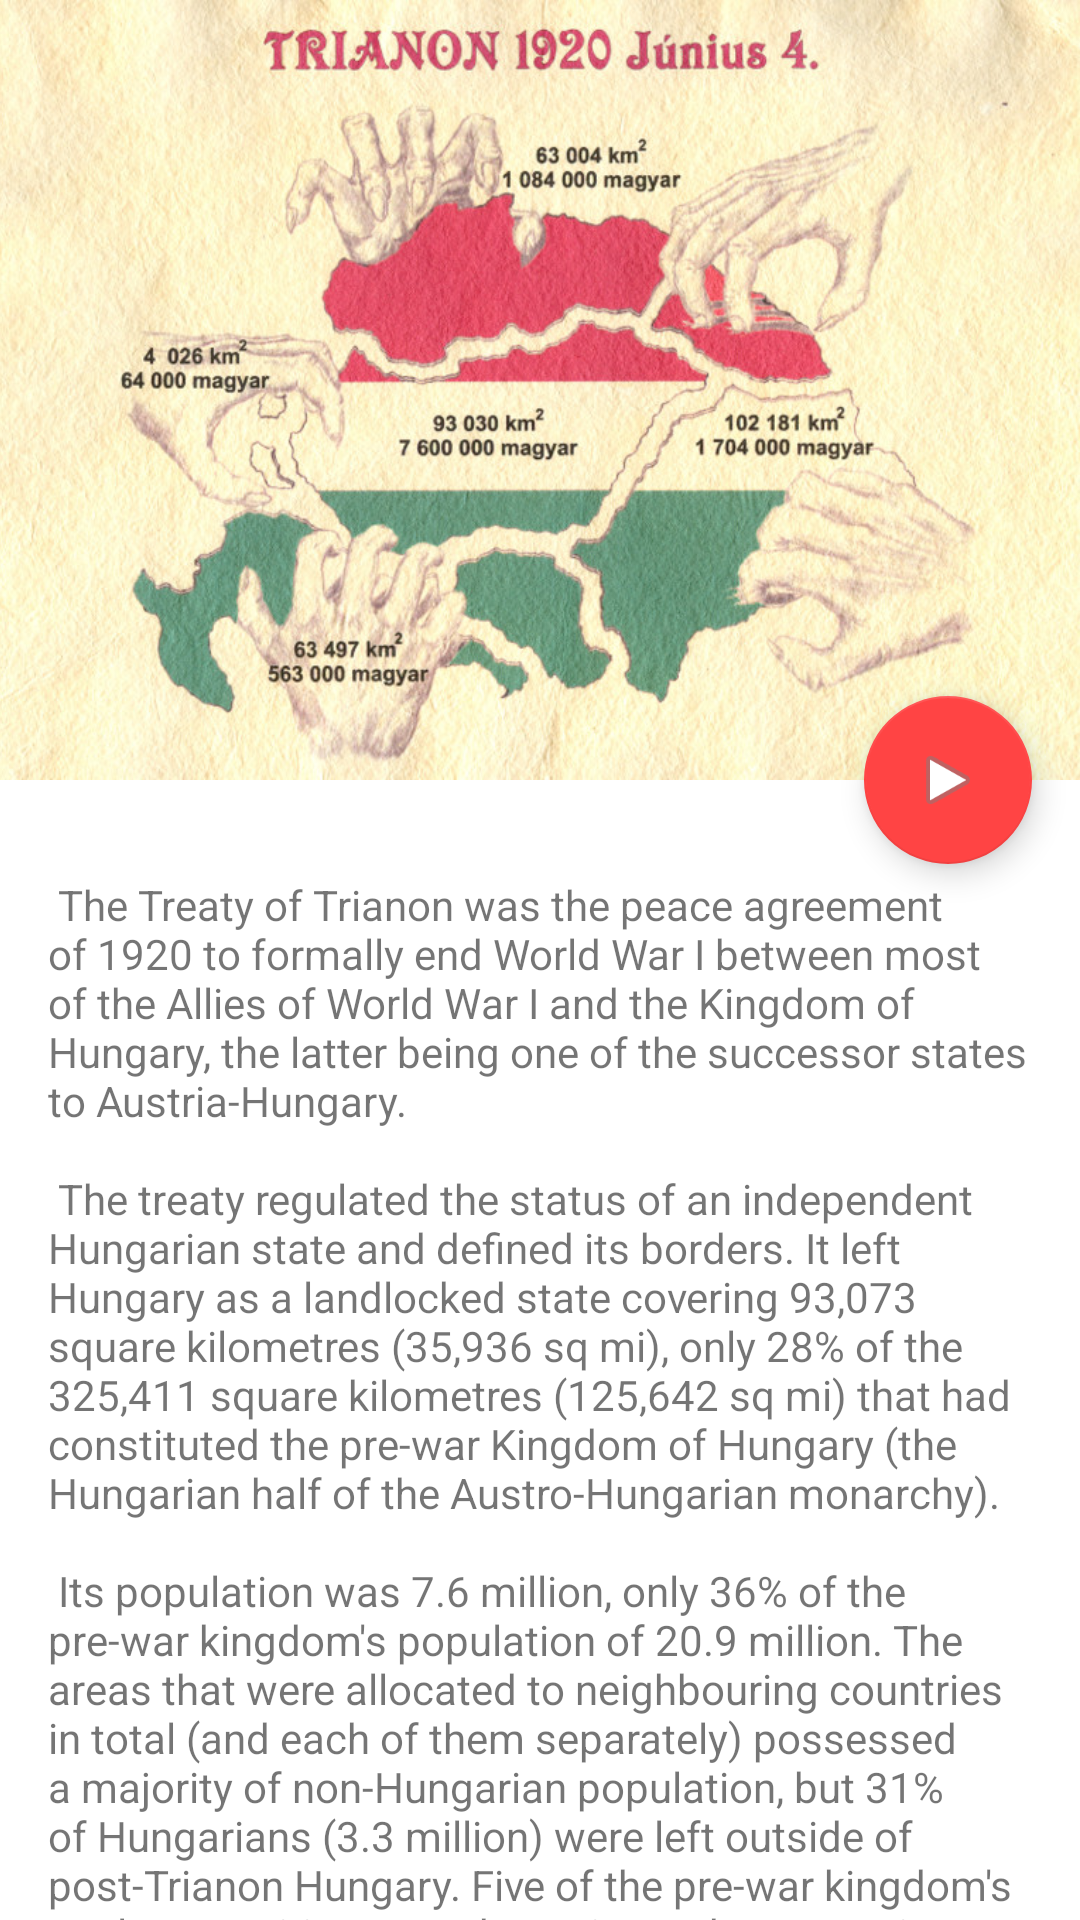

Named icons in this screenshot (1080px×1920px) and their centers, [x,y]:
play: [948,780]
